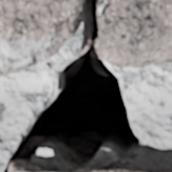brick: (9, 161, 171, 171)
broken_brick: (0, 0, 81, 75), (100, 0, 171, 68)
crack: (1, 0, 170, 171)
